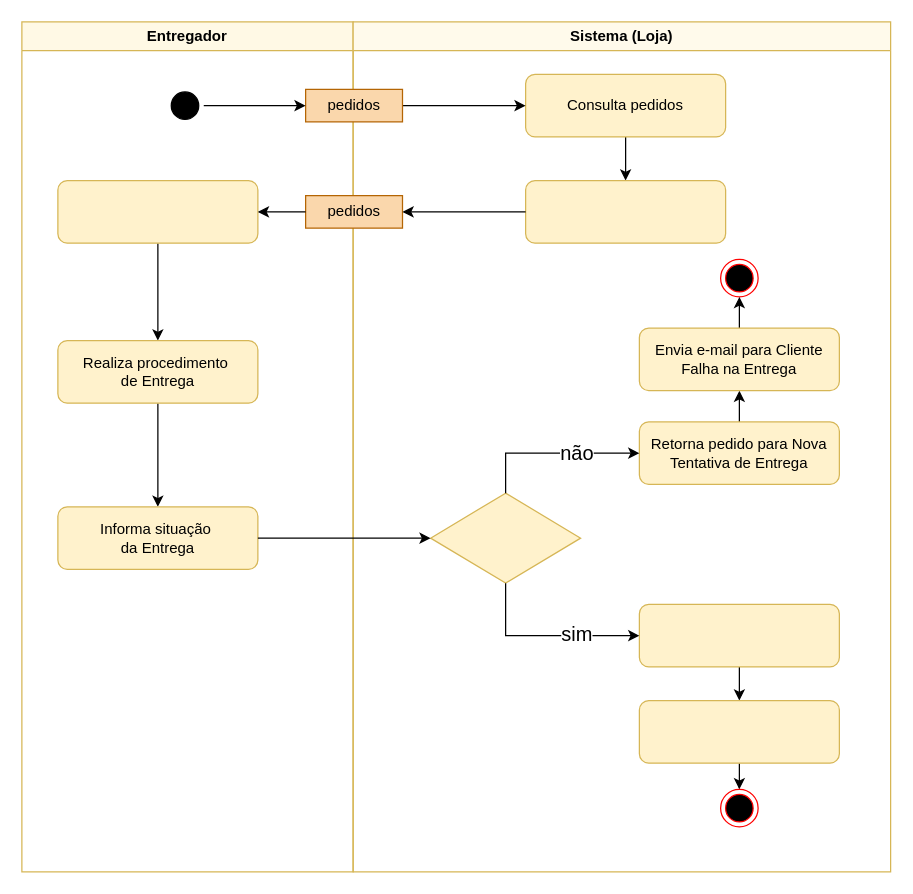
This 913x894 diagram has some shape labels left out. Each missing label, with the centre of its shape:
"Apresenta pedidos a serem entregues" belongs at (x=625, y=211).
"Entregue ao cliente?" belongs at (x=505, y=537).
"Envia e-mail para Cliente Entrega Realizada" belongs at (x=738, y=731).
"Registra dados da Entrega no Pedido" belongs at (x=738, y=635).
"Seleciona pedido para entregar" belongs at (x=157, y=211).
